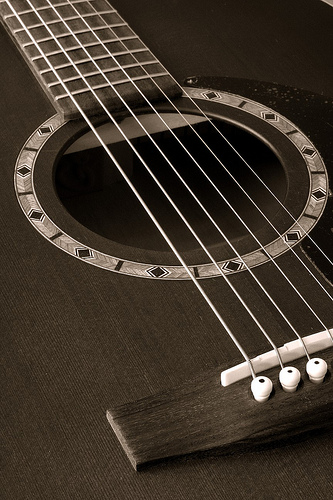guitar: (1, 1, 333, 500)
